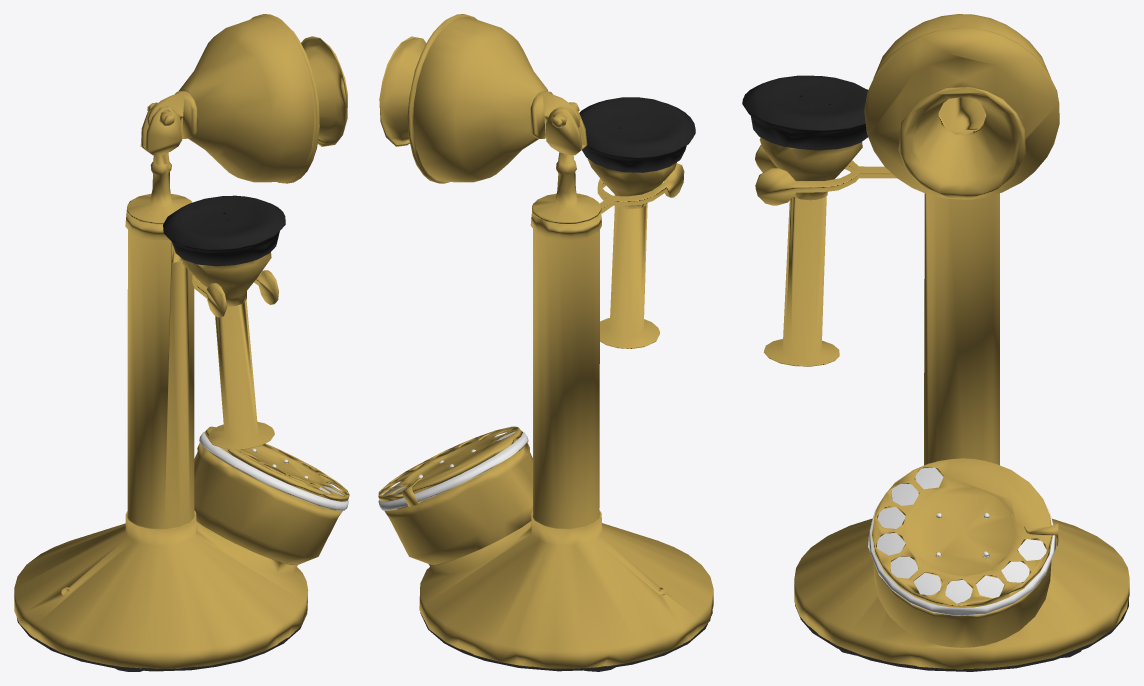
Rendered from Telefono.fbx.
The picture shows the model from 3 angles, left to right: view 1: azimuth 30°, elevation 25°; view 2: azimuth 150°, elevation 25°; view 3: azimuth 270°, elevation 25°; orthographic projection. The views are drawn at different scales.
Visible parts, largest first — view 1: Telefono; view 2: Telefono; view 3: Telefono.
Part boxes in pixels (x1,y1,x2,y2): Telefono: [14, 14, 349, 671]; Telefono: [378, 14, 713, 671]; Telefono: [742, 14, 1129, 671].
Size of the model in its own units: 250 by 444 by 242.
